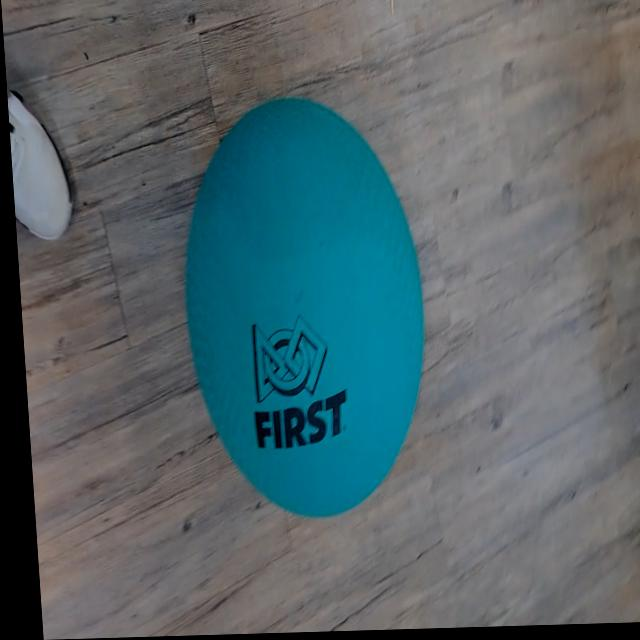ALGAE: (170, 91, 438, 523)
